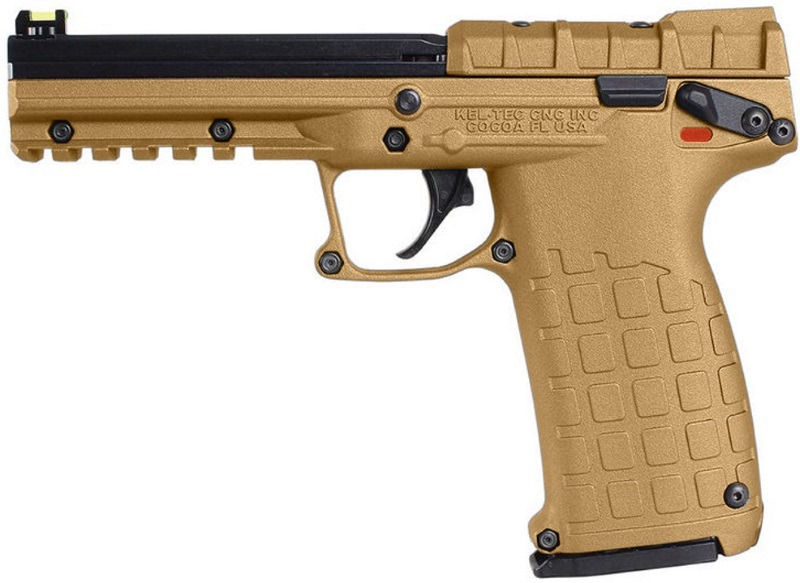gun: (7, 8, 800, 581)
